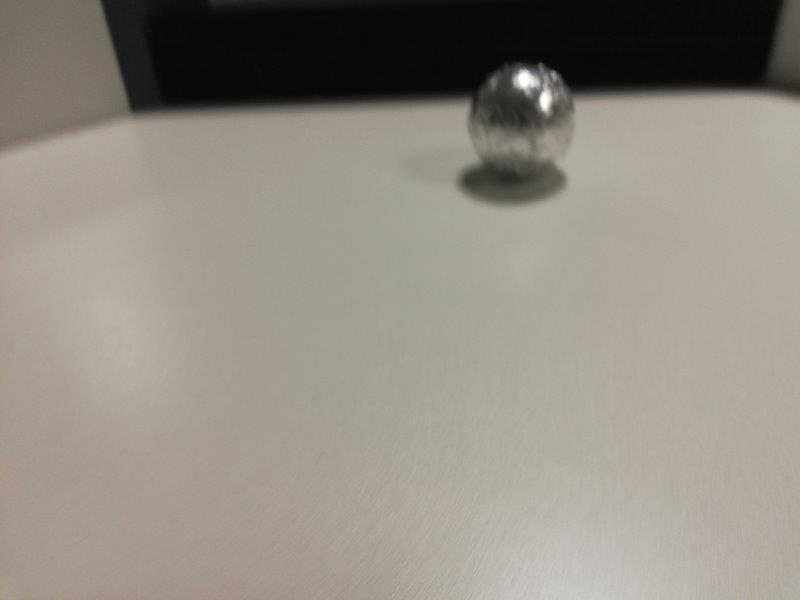bianca: (464, 59, 576, 180)
